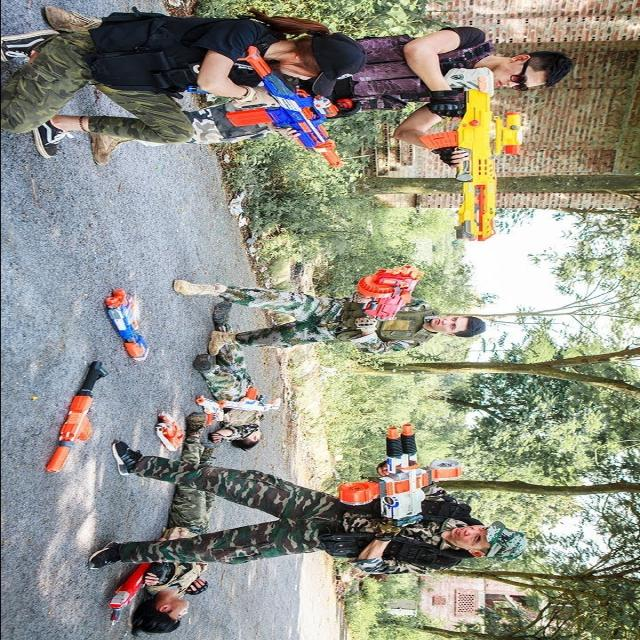Nerf gun: (416, 61, 523, 245), (212, 38, 354, 170), (335, 420, 467, 534), (30, 356, 112, 476), (90, 285, 161, 363), (351, 256, 428, 324), (103, 555, 162, 625), (148, 407, 198, 456), (218, 386, 280, 416), (193, 396, 232, 427)
